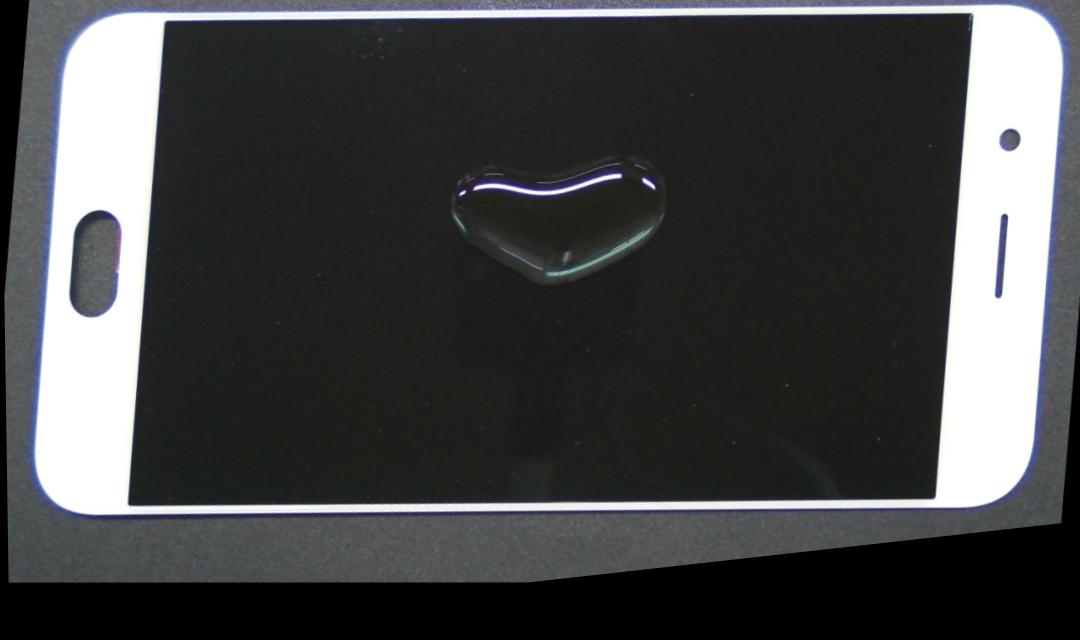oil: (425, 119, 689, 335)
